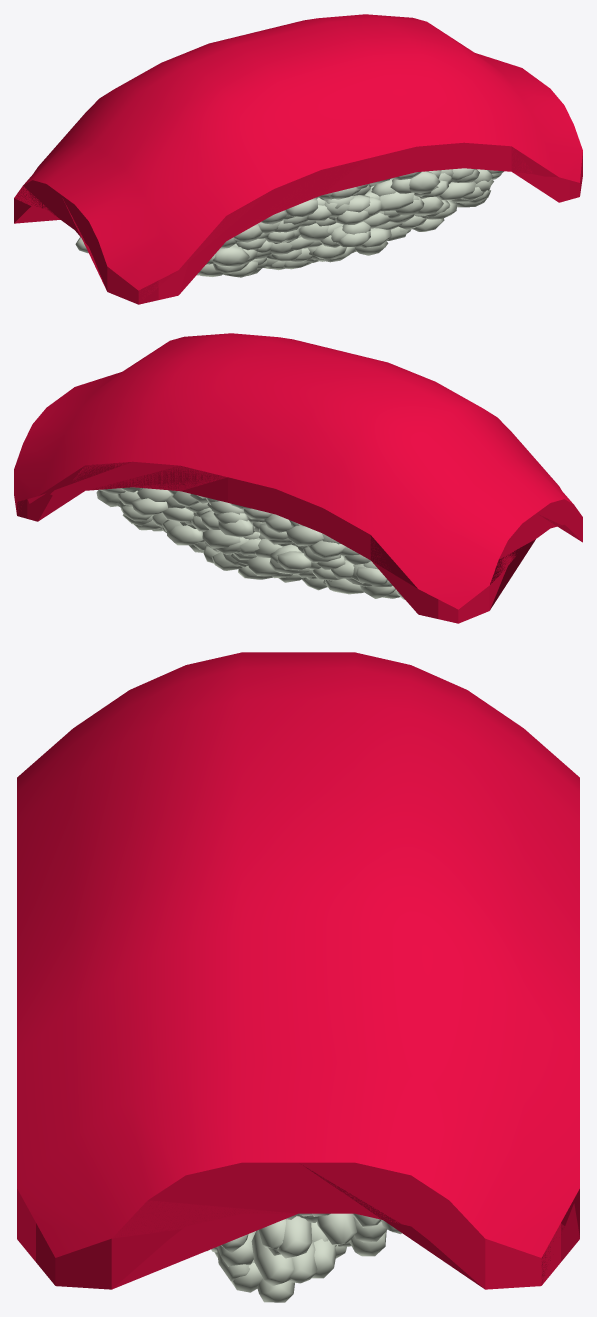
The model's file is akami.fbx.
The picture shows the model from 3 angles, top to bottom: view 1: azimuth 30°, elevation 25°; view 2: azimuth 150°, elevation 25°; view 3: azimuth 270°, elevation 25°; orthographic projection. The views are drawn at different scales.
Visible parts, largest first — view 1: sushi_2; view 2: sushi_2; view 3: sushi_2.
Boxes of the visible parts, bbox=[...] form: sushi_2: bbox=[14, 14, 582, 304]; sushi_2: bbox=[14, 333, 582, 623]; sushi_2: bbox=[17, 652, 579, 1302].
Size of the model in its own units: 390 by 167 by 200.
